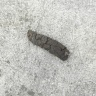Dog: (26, 29, 69, 59)
